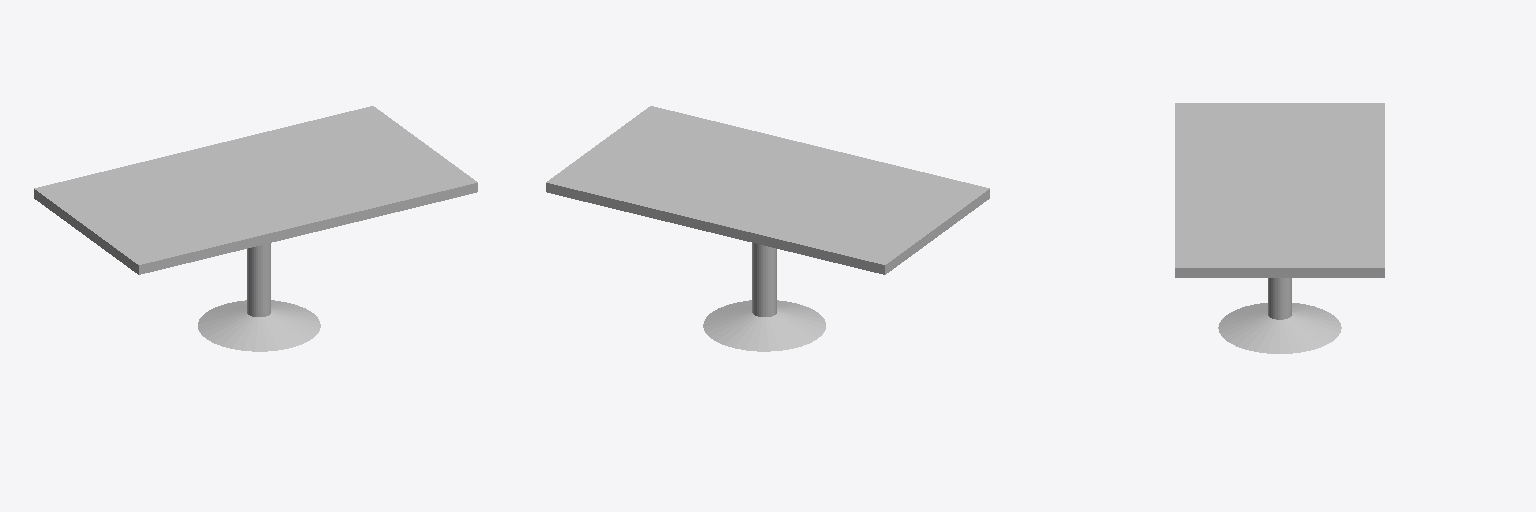
The model's file is squareTable2.obj.
The picture shows the model from 3 angles: view 1: azimuth 30°, elevation 25°; view 2: azimuth 150°, elevation 25°; view 3: azimuth 270°, elevation 25°; orthographic projection.
Visible parts, largest first — view 1: Cube.001_Cube, Cylinder_Cylinder.001; view 2: Cube.001_Cube, Cylinder_Cylinder.001; view 3: Cube.001_Cube, Cylinder_Cylinder.001.
Part boxes in pixels (x1,y1,x2,y2): Cube.001_Cube: (34, 106, 477, 274); Cylinder_Cylinder.001: (198, 243, 320, 351); Cube.001_Cube: (546, 106, 989, 274); Cylinder_Cylinder.001: (703, 243, 825, 351); Cube.001_Cube: (1175, 103, 1384, 277); Cylinder_Cylinder.001: (1218, 278, 1341, 353).
Size of the model in its own units: 7.95 by 3.15 by 4.26.